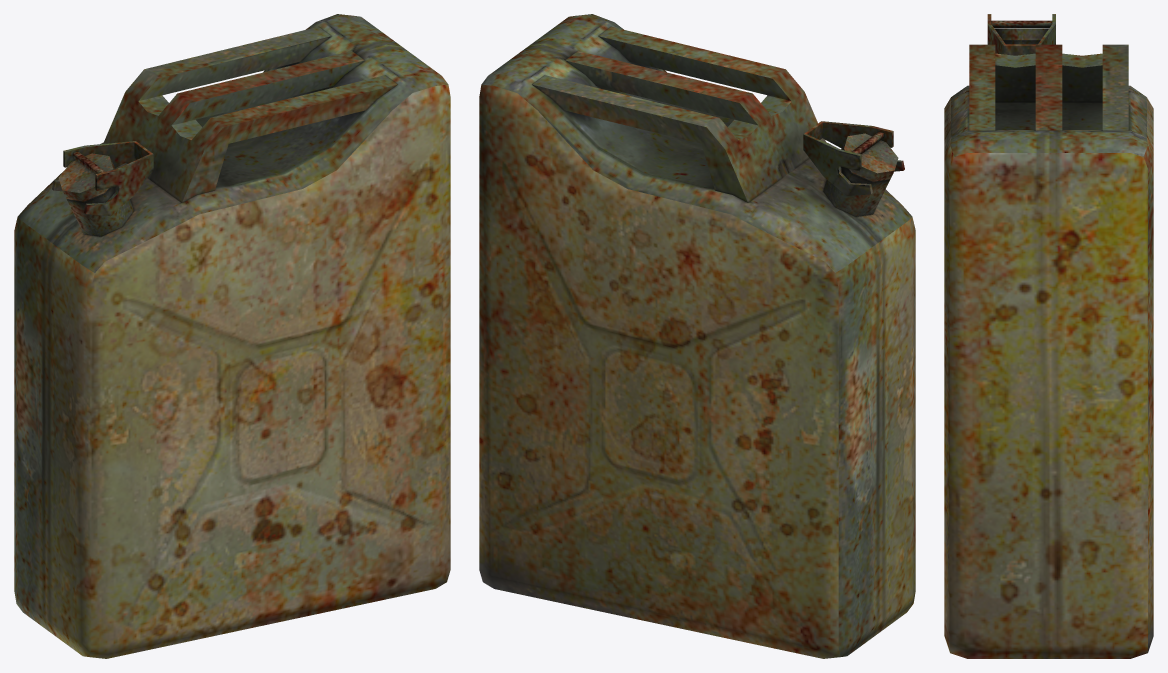
The model's file is jerrycan_01.FBX.
The picture shows the model from 3 angles, left to right: view 1: azimuth 30°, elevation 25°; view 2: azimuth 150°, elevation 25°; view 3: azimuth 270°, elevation 25°; orthographic projection.
Parts seen in each view (by area): view 1: jerrycan_01; view 2: jerrycan_01; view 3: jerrycan_01.
Boxes of the visible parts, x1,y1,x2,y2 form: jerrycan_01: (14, 14, 450, 658); jerrycan_01: (479, 14, 915, 658); jerrycan_01: (944, 14, 1153, 658).
Bounding box in the file's own units: 0.3008 × 0.4113 × 0.1512.
